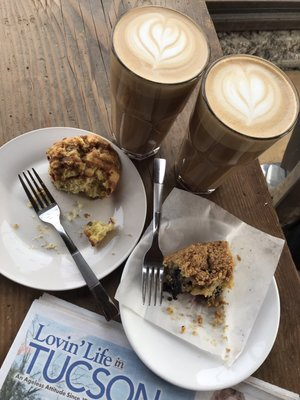burger: (18, 168, 121, 323), (142, 156, 170, 306)
pizza: (176, 54, 299, 194), (111, 3, 211, 161)
